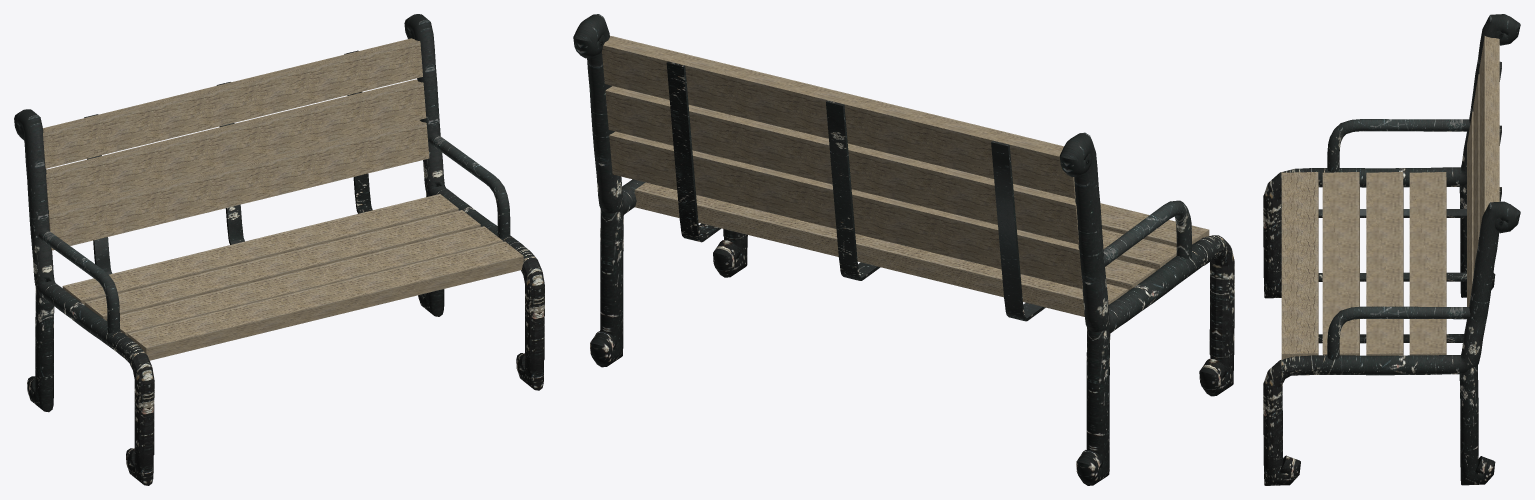
Rendered from bench_default.FBX.
3 renders of one model, left to right at view 1: azimuth 30°, elevation 25°; view 2: azimuth 150°, elevation 25°; view 3: azimuth 270°, elevation 25°, orthographic. The views are drawn at different scales.
Parts seen in each view (by area): view 1: Object001, Line004, Line003; view 2: Object001, Line004, Line003; view 3: Object001, Line004, Line003.
Boxes of the visible parts, x1,y1,x2,y2 form: Object001: (43,38,523,360); Line004: (14,14,544,485); Line003: (84,50,372,274); Object001: (602,36,1209,316); Line004: (573,14,1234,485); Line003: (666,61,1045,321); Object001: (1281,36,1499,359); Line004: (1263,14,1520,485); Line003: (1318,61,1501,343).
Bounding box in the file's own units: 264 × 178 × 147.
Materials: 2 (2 with a texture image).
